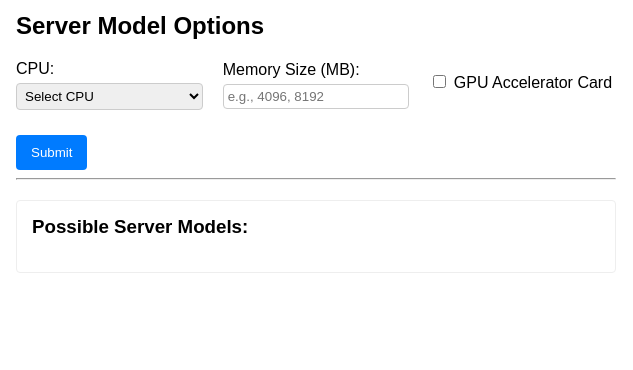
Test: App Component › displays "Tower Server or 4U Rack Server or Mainframe" (Example 2)
This screenshot has width=633, height=370.
Select "Power" in the dropdown labelled "CPU:" at (109, 96), box [16,83,203,110]
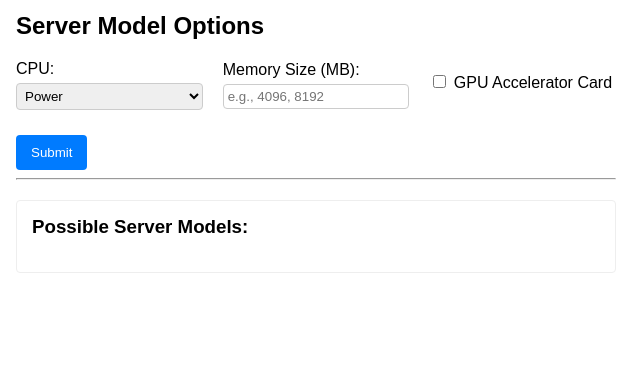
Type "262144" into the field labelled "Memory Size (MB):" at (316, 96), box [223,84,409,109]
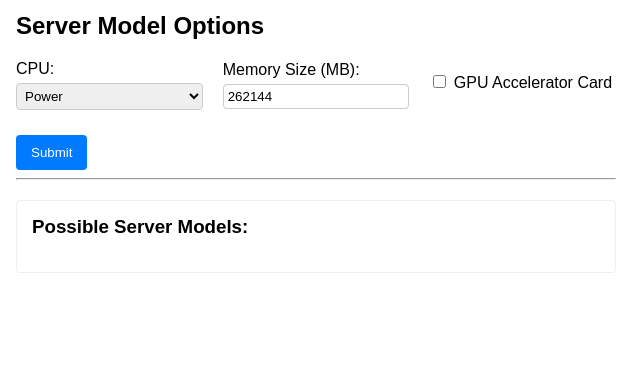
Click the button "Submit" at (52, 152), box [16,135,88,170]
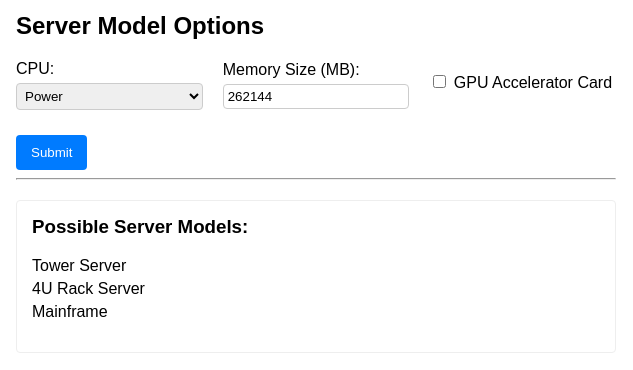
Now the list item "Tower Server" is shown, box [32,256,126,274]
Now the list item "4U Rack Server" is shown, box [32,280,145,296]
Now the list item "Mainframe" is shown, box [32,302,108,320]
